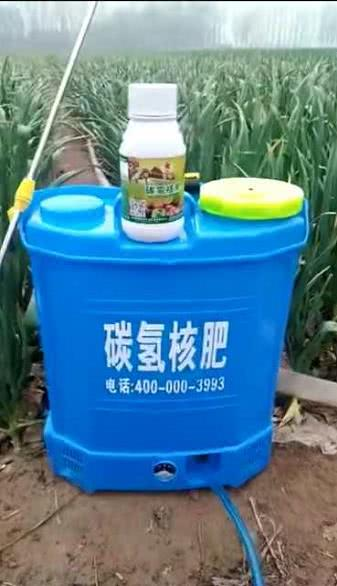berrl: (15, 172, 313, 503)
